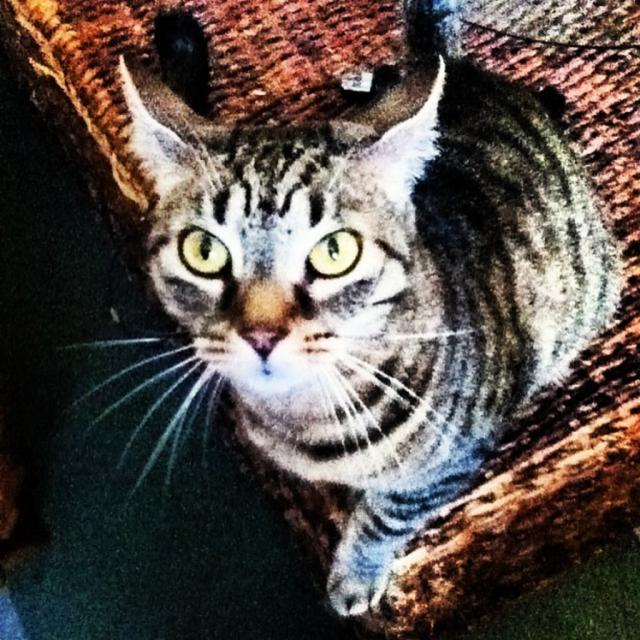Cat: (49, 44, 626, 616)
